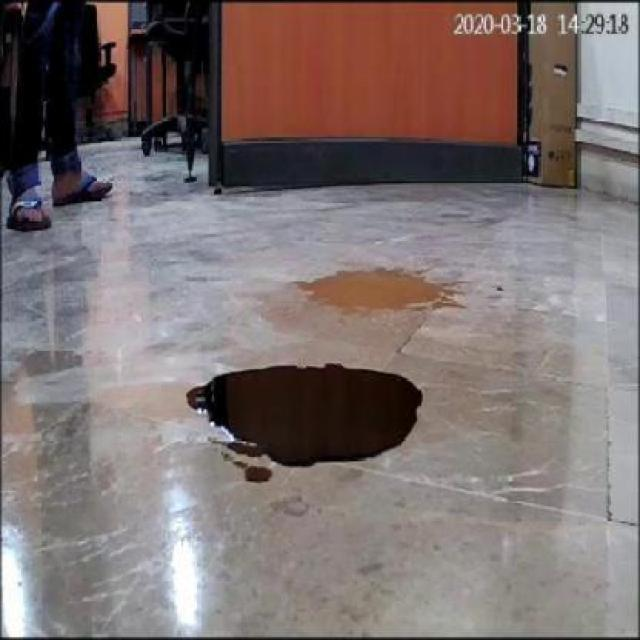spillage: (185, 363, 430, 475), (297, 267, 457, 317)
